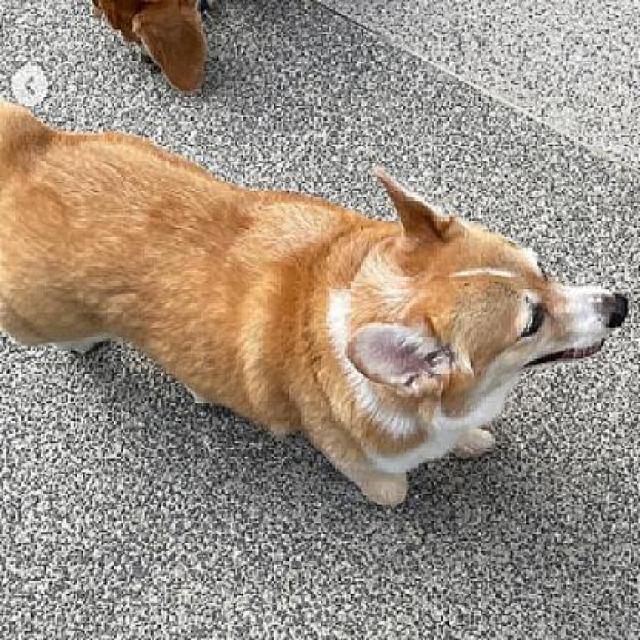Dog: (0, 92, 632, 510)
